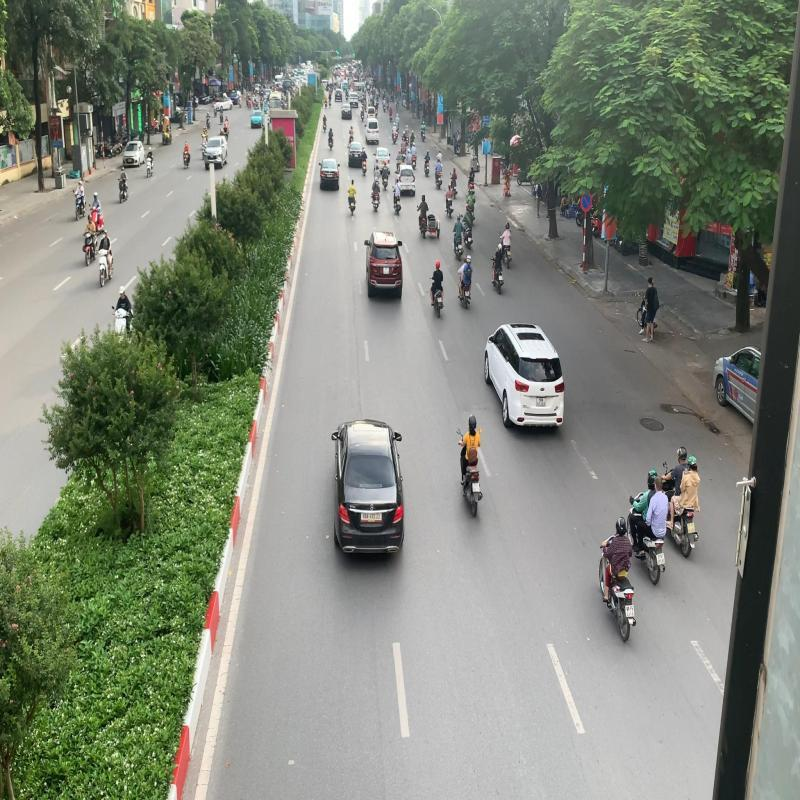helmet: (648, 469, 658, 489), (616, 516, 626, 534), (687, 454, 697, 470), (676, 446, 687, 460), (468, 414, 477, 430)
licenseplate: (624, 604, 634, 618), (656, 552, 666, 566), (686, 522, 696, 535), (472, 482, 480, 492)
motorcyclist: (626, 466, 669, 586), (598, 515, 637, 645), (661, 444, 700, 558), (454, 412, 485, 520)
nohelmet: (654, 476, 662, 490)
